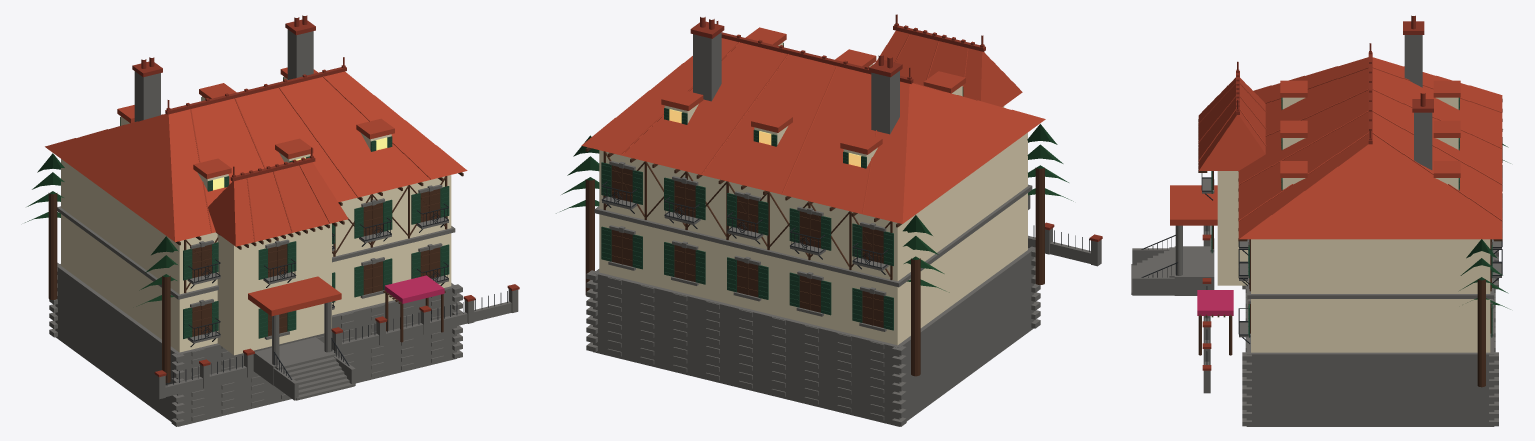
Rendered from fv_thd_05_villa_18_basque.glb.
3 renders of one model, left to right at view 1: azimuth 30°, elevation 25°; view 2: azimuth 150°, elevation 25°; view 3: azimuth 270°, elevation 25°, orthographic. The views are drawn at different scales.
Visible parts, largest first — view 1: marseille_corrugated_roof_tiles, granite_foundation_and_stairs, stucco_facade_and_dormers, colombage_timber_and_eaves, pine_green_louvered_shutters, ridge_cresting_and_chimneys, wrought_iron_balconies_3d, pine_trees_and_garden_hedges, bougainvillea_pergola_clusters; view 2: marseille_corrugated_roof_tiles, granite_foundation_and_stairs, stucco_facade_and_dormers, colombage_timber_and_eaves, pine_green_louvered_shutters, ridge_cresting_and_chimneys, pine_trees_and_garden_hedges, wrought_iron_balconies_3d; view 3: marseille_corrugated_roof_tiles, stucco_facade_and_dormers, granite_foundation_and_stairs, colombage_timber_and_eaves, ridge_cresting_and_chimneys, bougainvillea_pergola_clusters, wrought_iron_balconies_3d, pine_trees_and_garden_hedges, pine_green_louvered_shutters.
Part boxes in pixels (x1,y1,x2,y2): marseille_corrugated_roof_tiles: [45, 67, 467, 316]; granite_foundation_and_stairs: [49, 29, 518, 426]; stucco_facade_and_dormers: [61, 76, 451, 355]; colombage_timber_and_eaves: [48, 172, 463, 382]; pine_green_louvered_shutters: [120, 77, 449, 338]; ridge_cresting_and_chimneys: [132, 15, 519, 377]; wrought_iron_balconies_3d: [166, 203, 507, 385]; pine_trees_and_garden_hedges: [25, 153, 178, 306]; bougainvillea_pergola_clusters: [384, 275, 444, 303]; marseille_corrugated_roof_tiles: [581, 27, 1045, 223]; granite_foundation_and_stairs: [586, 32, 1101, 426]; stucco_facade_and_dormers: [599, 42, 1027, 345]; colombage_timber_and_eaves: [585, 147, 1044, 376]; pine_green_louvered_shutters: [601, 43, 963, 330]; ridge_cresting_and_chimneys: [690, 14, 1102, 241]; pine_trees_and_garden_hedges: [556, 124, 1073, 292]; wrought_iron_balconies_3d: [601, 181, 1089, 274]; marseille_corrugated_roof_tiles: [1170, 57, 1502, 239]; stucco_facade_and_dormers: [1217, 97, 1490, 352]; granite_foundation_and_stairs: [1131, 35, 1501, 426]; colombage_timber_and_eaves: [1198, 99, 1502, 387]; ridge_cresting_and_chimneys: [1202, 15, 1433, 370]; bougainvillea_pergola_clusters: [1197, 290, 1233, 315]; wrought_iron_balconies_3d: [1141, 137, 1502, 364]; pine_trees_and_garden_hedges: [1459, 144, 1510, 309]; pine_green_louvered_shutters: [1211, 97, 1492, 337].
Bounding box in the file's own units: 25.1 × 19.53 × 23.08.
